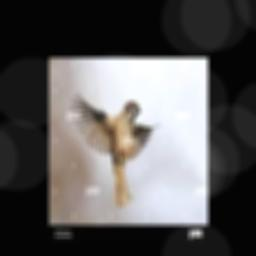Sparrow: (71, 91, 161, 208)
